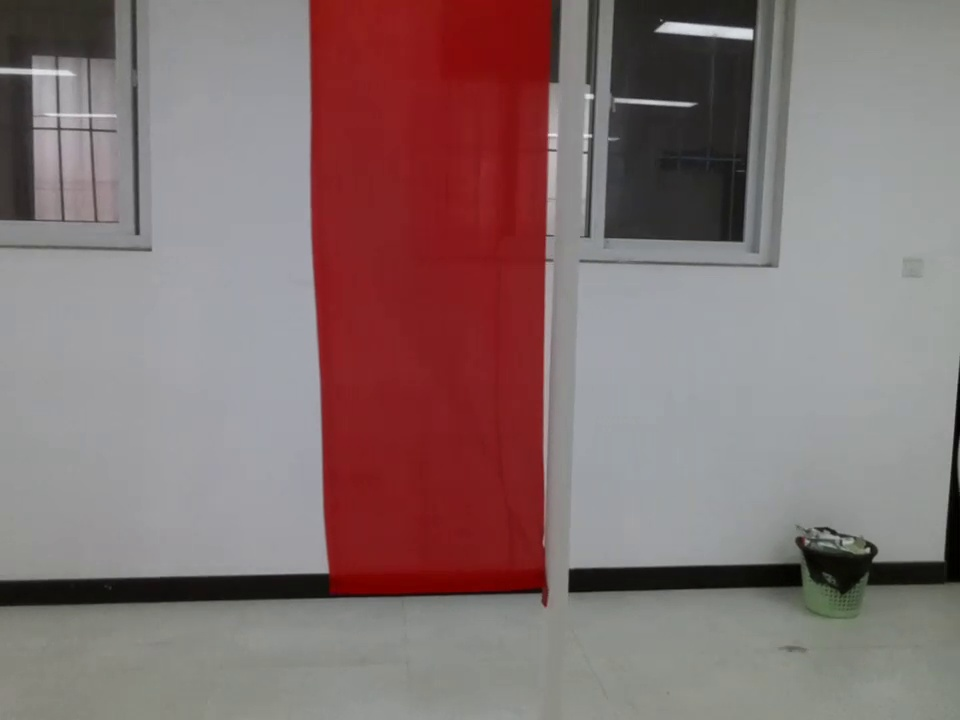qi: (303, 1, 570, 632)
